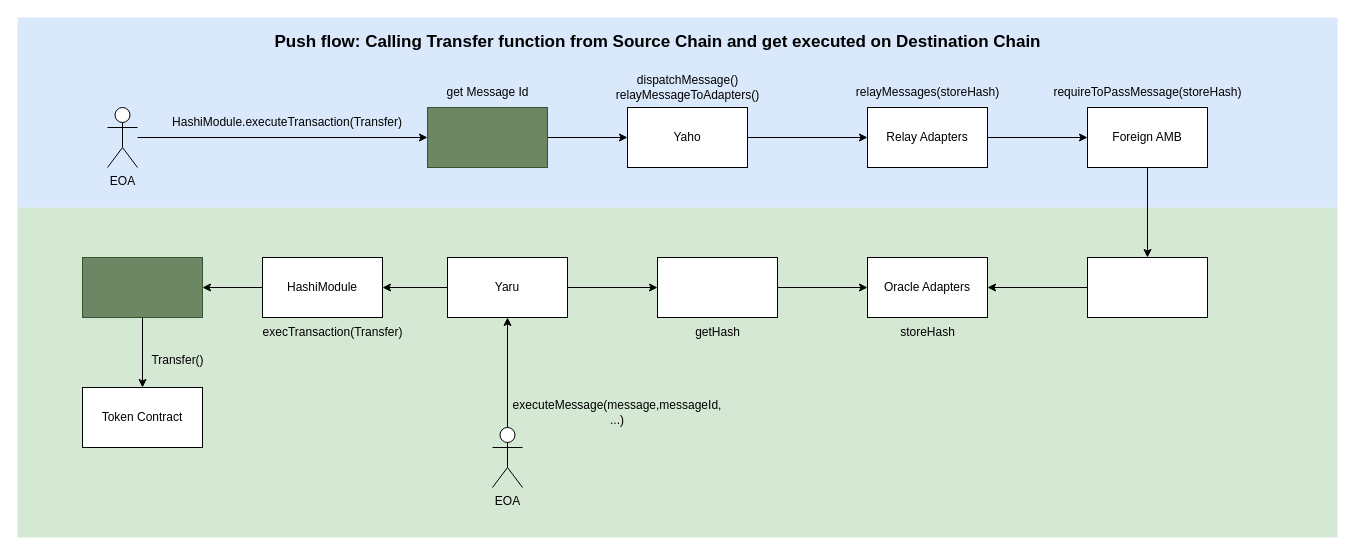
Image size: 1354x554. Some labels were removed from this diagram. Here are the shapes that lost their labels. From the top down, the centre of each, then its label:
(x=487, y=137): Safe
(x=142, y=287): Counterfactual Safe
(x=717, y=287): Hashi
(x=1147, y=287): Home AMB
